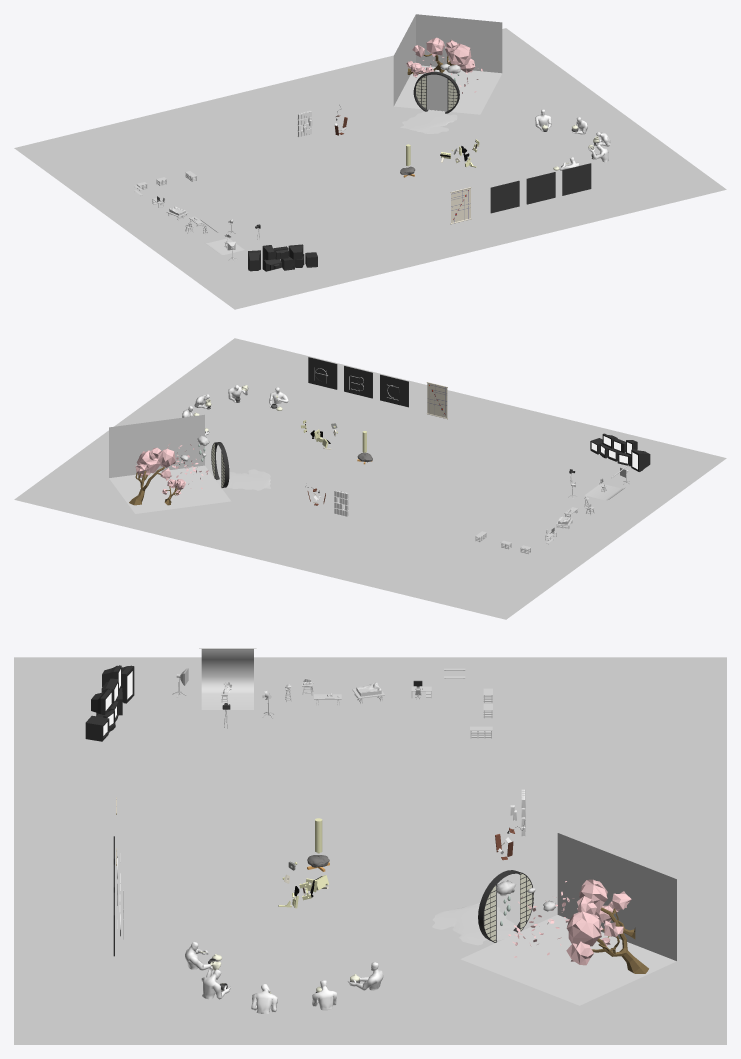
Rendered from stage-test-13.glb.
The picture shows the model from 3 angles, top to bottom: view 1: azimuth 30°, elevation 25°; view 2: azimuth 150°, elevation 25°; view 3: azimuth 270°, elevation 25°; orthographic projection. The views are drawn at different scales.
Parts seen in each view (by area): view 1: test-ground-ver2.001, digital-world, tree-leaves-low-poly.009, scenery-reflection-on-the-ground-modified, comforting-dinner-baked-johns.003, typo-C-backwall.001, typo-A-backwall.001, typo-B-backwall.001, scenery-window-mask, typo-graphic-textile.001, paper-screen; view 2: test-ground-ver2.001, digital-world, tree-leaves-low-poly.009, scenery-reflection-on-the-ground-modified, typo-A-backwall.001, typo-C-backwall.001, typo-B-backwall.001, comforting-dinner-baked-johns.003, typo-graphic-textile.001; view 3: test-ground-ver2.001, digital-world, photo-screen.001, tree-leaves-low-poly.009, comforting-dinner-baked-johns.003, scenery-reflection-on-the-ground-modified, paper-screen, tree-trunk-low-poly.006.
Part boxes in pixels (<box>): test-ground-ver2.001: <box>14,28,726,309</box>; digital-world: <box>393,14,502,114</box>; tree-leaves-low-poly.009: <box>412,37,475,72</box>; scenery-reflection-on-the-ground-modified: <box>400,110,457,133</box>; comforting-dinner-baked-johns.003: <box>535,109,610,170</box>; typo-C-backwall.001: <box>490,180,519,213</box>; typo-A-backwall.001: <box>562,163,591,195</box>; typo-B-backwall.001: <box>526,172,555,204</box>; scenery-window-mask: <box>427,71,447,111</box>; typo-graphic-textile.001: <box>451,187,470,223</box>; paper-screen: <box>415,73,459,110</box>; test-ground-ver2.001: <box>14,338,726,619</box>; digital-world: <box>109,414,230,513</box>; tree-leaves-low-poly.009: <box>135,447,175,480</box>; scenery-reflection-on-the-ground-modified: <box>217,469,270,490</box>; typo-A-backwall.001: <box>308,357,337,389</box>; typo-C-backwall.001: <box>380,374,408,407</box>; typo-B-backwall.001: <box>344,366,372,398</box>; comforting-dinner-baked-johns.003: <box>182,385,288,436</box>; typo-graphic-textile.001: <box>427,382,447,418</box>; test-ground-ver2.001: <box>14,657,726,1044</box>; digital-world: <box>461,833,676,1005</box>; photo-screen.001: <box>201,648,253,709</box>; tree-leaves-low-poly.009: <box>566,879,631,965</box>; comforting-dinner-baked-johns.003: <box>185,941,383,1013</box>; scenery-reflection-on-the-ground-modified: <box>432,903,516,945</box>; paper-screen: <box>483,872,533,942</box>; tree-trunk-low-poly.006: <box>591,907,648,973</box>.
Size of the model in its own units: 776 by 81.31 by 603.
Materials: 48 (1 with a texture image).
